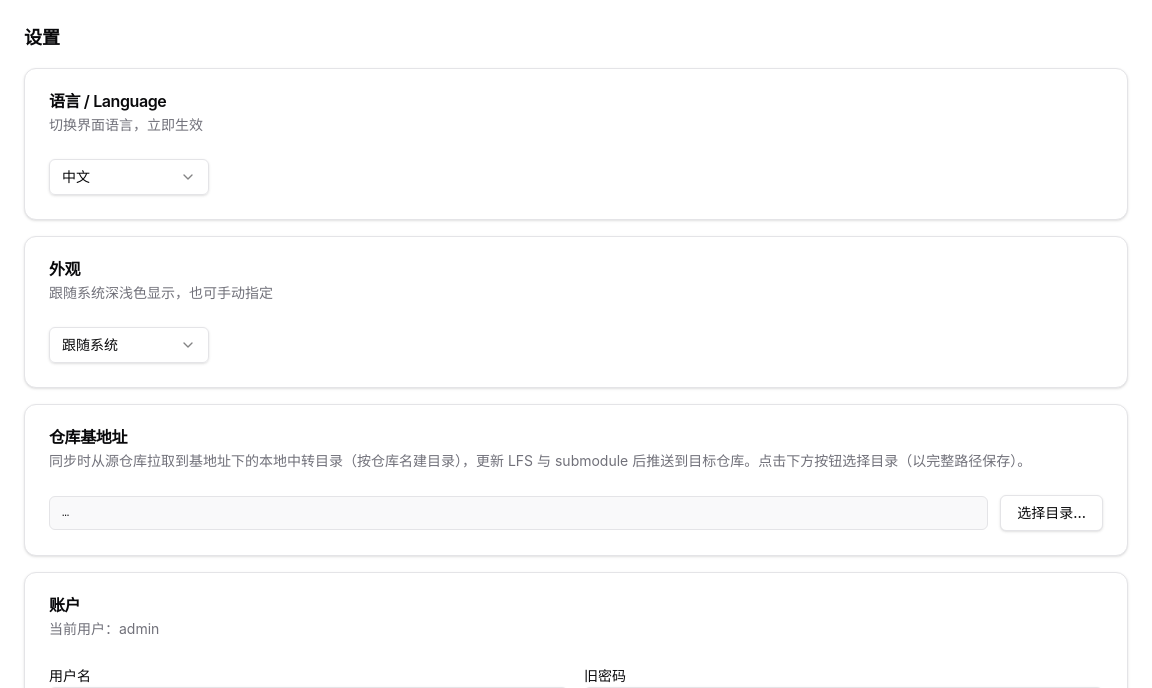
it: 语言卡片：下拉切换 English 后界面文案切换，可切回中文
# jsdom 下 Radix trigger 的指针类型初始为 touch：click 即打开下拉
Click the dropdown named "语言 / Language": {"x": 129, "y": 177} [49,159,209,195]
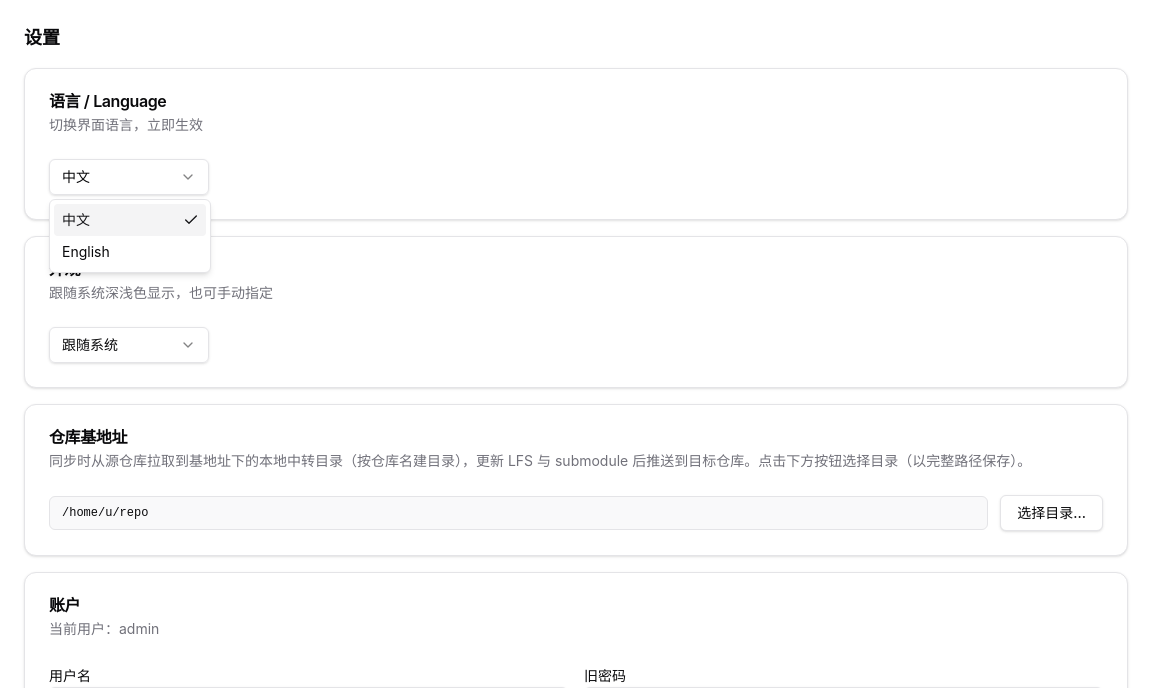
Click the option "English": {"x": 86, "y": 252} [62,243,110,260]
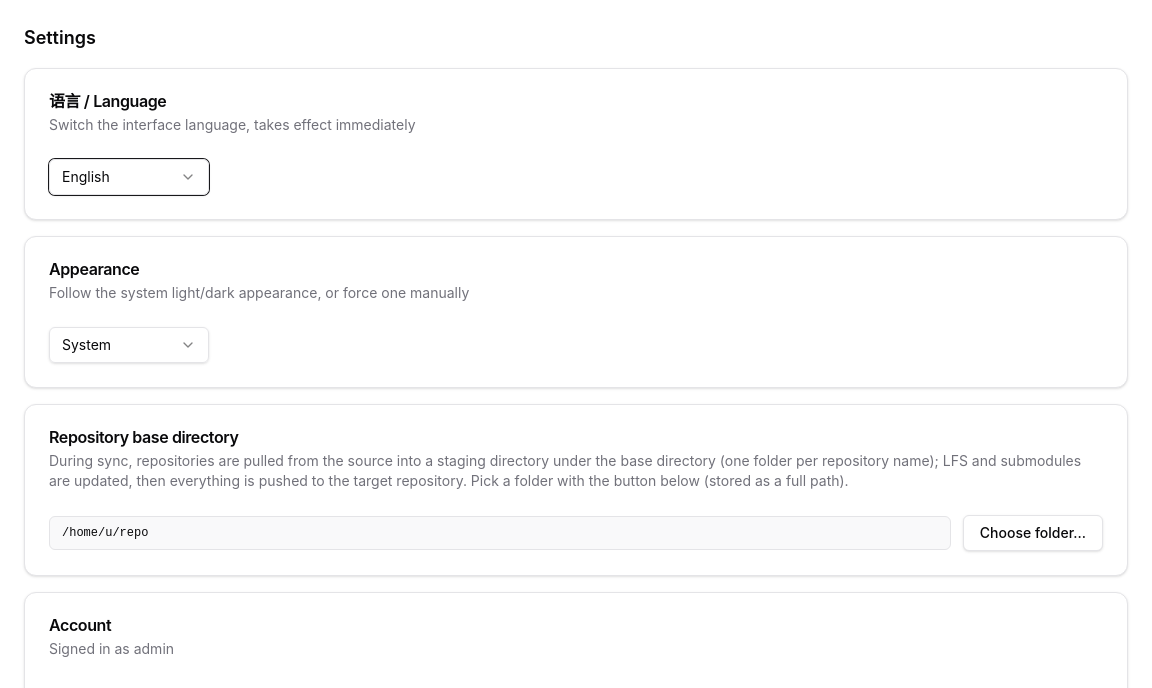
Expected: the dropdown named "Appearance" is shown, [49,327,209,363]
Click the dropdown named "语言 / Language": {"x": 129, "y": 177} [49,159,209,195]
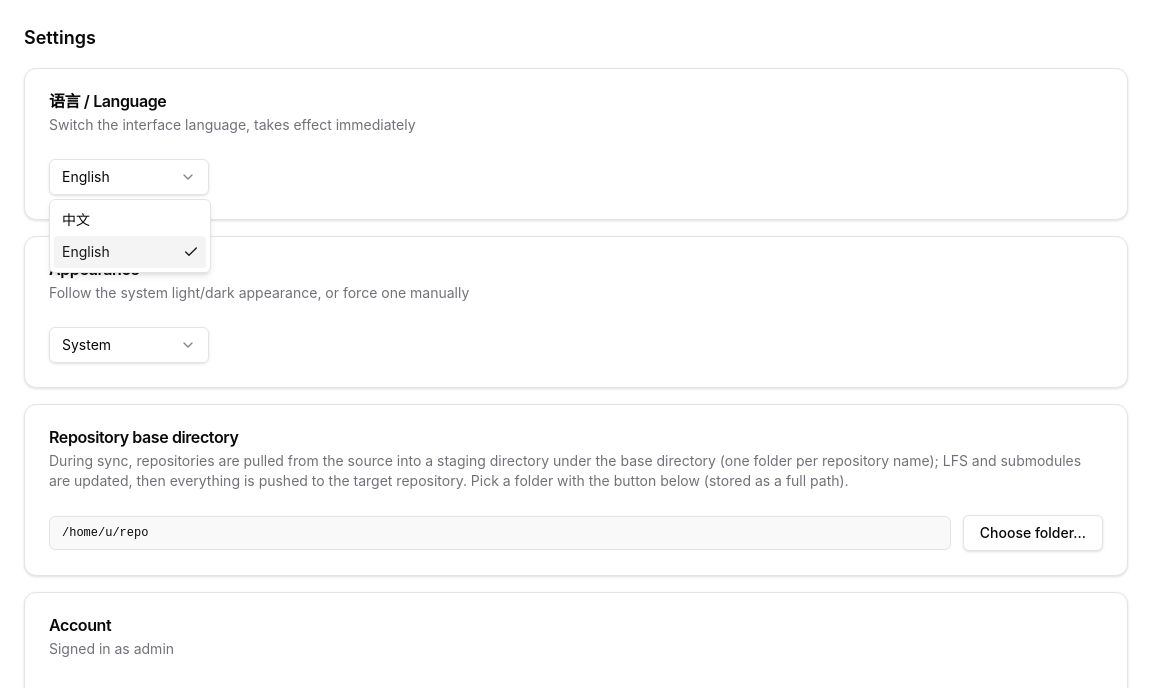
Click the option "中文": {"x": 76, "y": 220} [62,211,90,228]
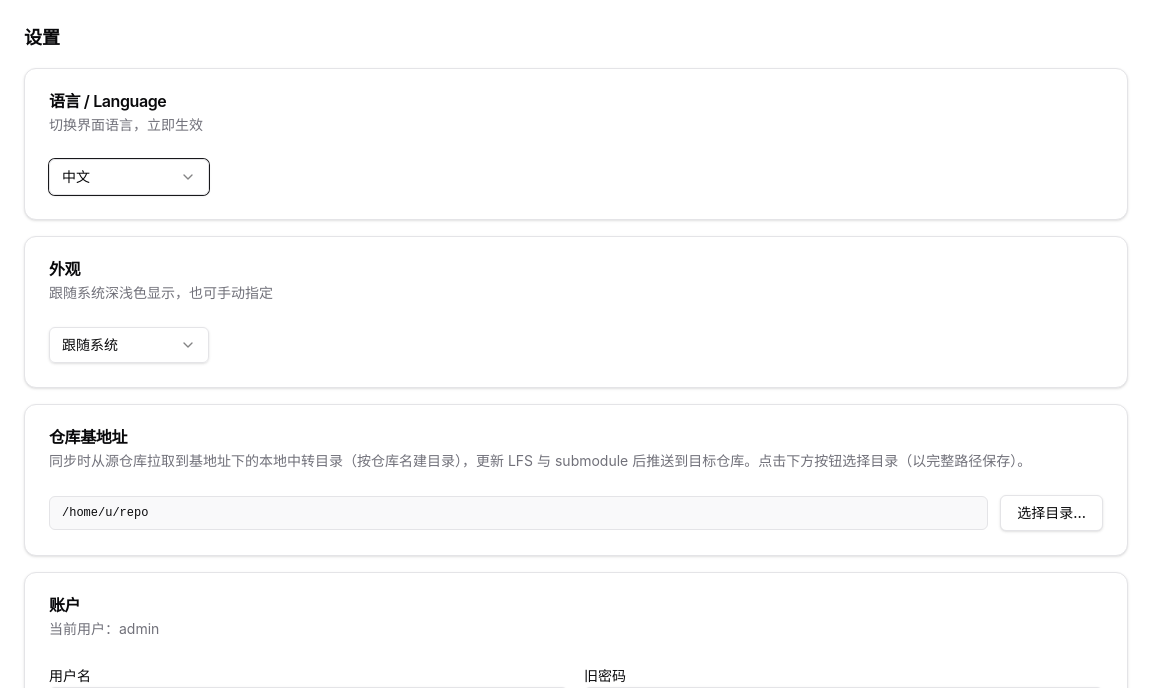
Expected: the dropdown named "外观" is shown, [49,327,209,363]
